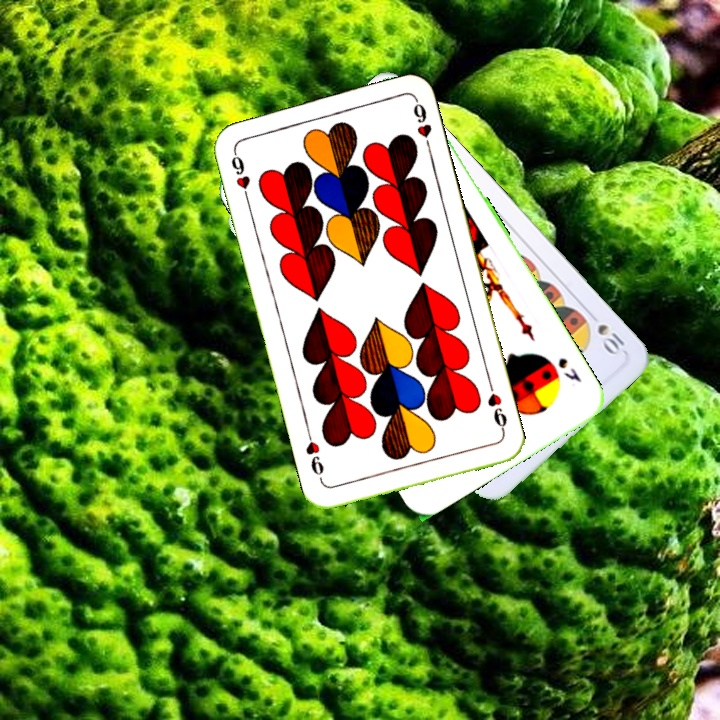H9: (483, 378, 510, 437), (227, 146, 253, 204)
S10: (584, 307, 630, 358)
SK: (554, 353, 584, 385)
